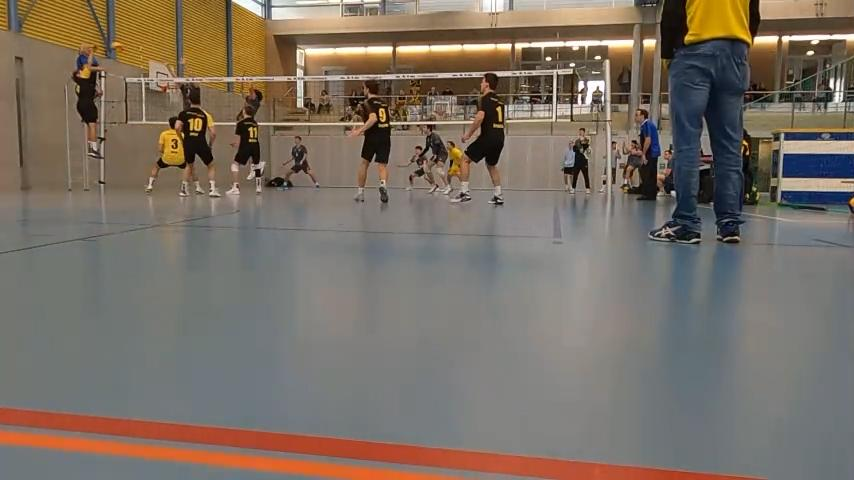Attack: (66, 45, 109, 164)
Block: (166, 57, 204, 119), (232, 65, 265, 128)
Player: (452, 73, 505, 204), (350, 80, 390, 202), (176, 91, 220, 197), (226, 104, 262, 194), (145, 117, 186, 192), (282, 136, 319, 189), (422, 124, 447, 193), (398, 146, 435, 192), (442, 141, 462, 195)
ball: (108, 41, 122, 53)
